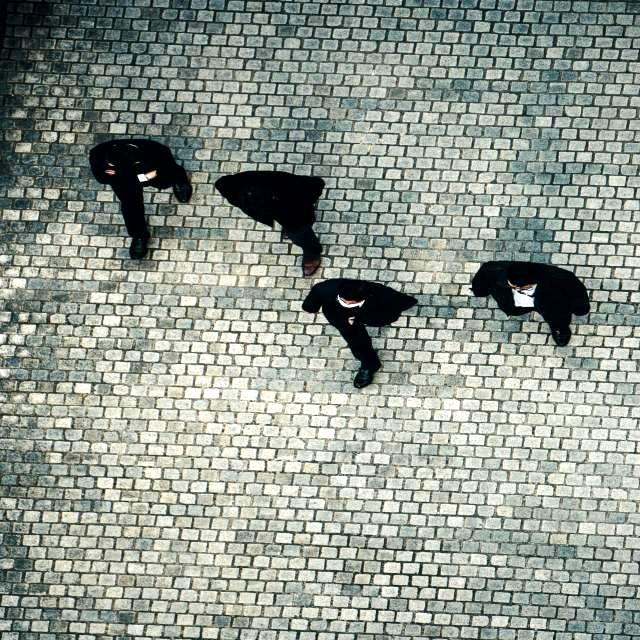no_head_wear: (507, 262, 544, 287), (105, 144, 140, 167), (338, 280, 373, 302), (266, 187, 271, 192)
person: (302, 279, 417, 388), (89, 138, 192, 259), (215, 171, 325, 276), (472, 261, 590, 346)
